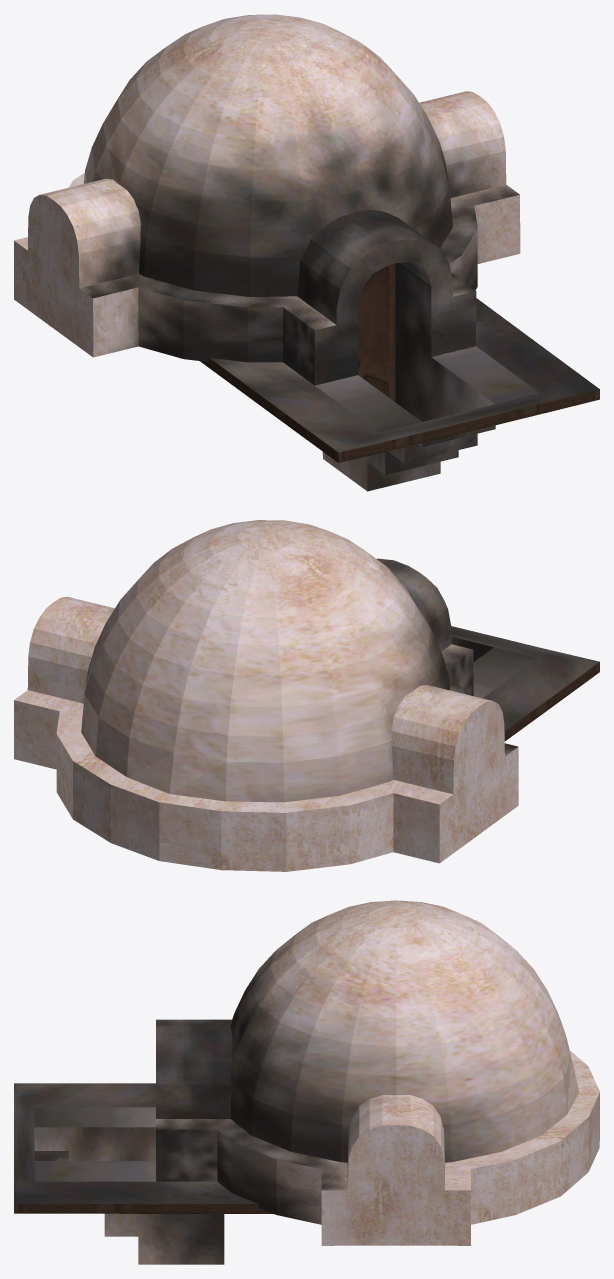
Rendered from thm_tato_luke_farm_dome_l0.fbx.
3 renders of one model, top to bottom at view 1: azimuth 30°, elevation 25°; view 2: azimuth 150°, elevation 25°; view 3: azimuth 270°, elevation 25°, orthographic. The views are drawn at different scales.
Parts seen in each view (by area): view 1: mesh_node; view 2: mesh_node; view 3: mesh_node.
Boxes of the visible parts, x1,y1,x2,y2 form: mesh_node: (14,14,599,491); mesh_node: (14,520,599,871); mesh_node: (14,900,599,1264).
Bounding box in the file's own units: 6.7 × 5.29 × 8.44.
